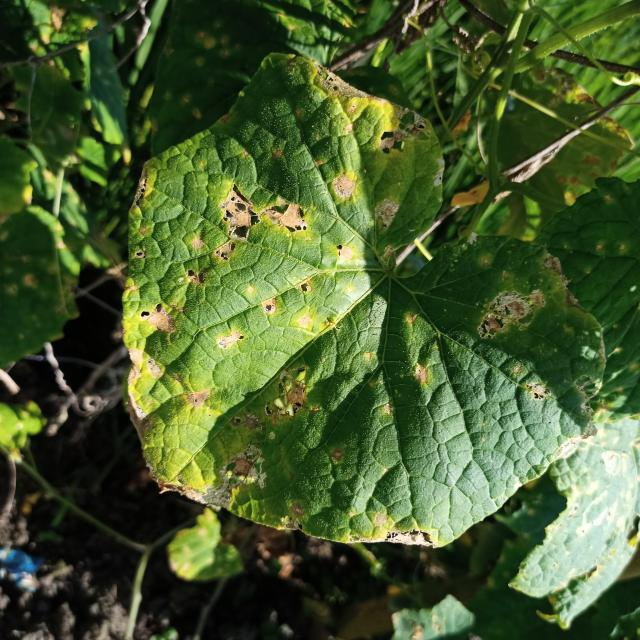disease_cucumber: (133, 60, 582, 530)
